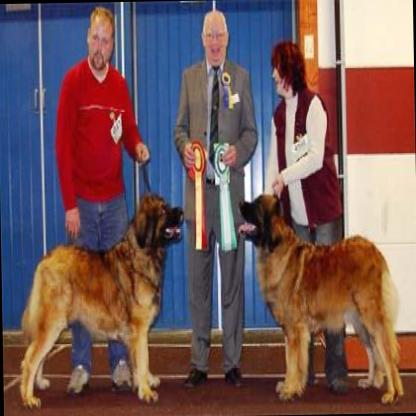Leonberg: (10, 189, 188, 410), (234, 186, 402, 409)
